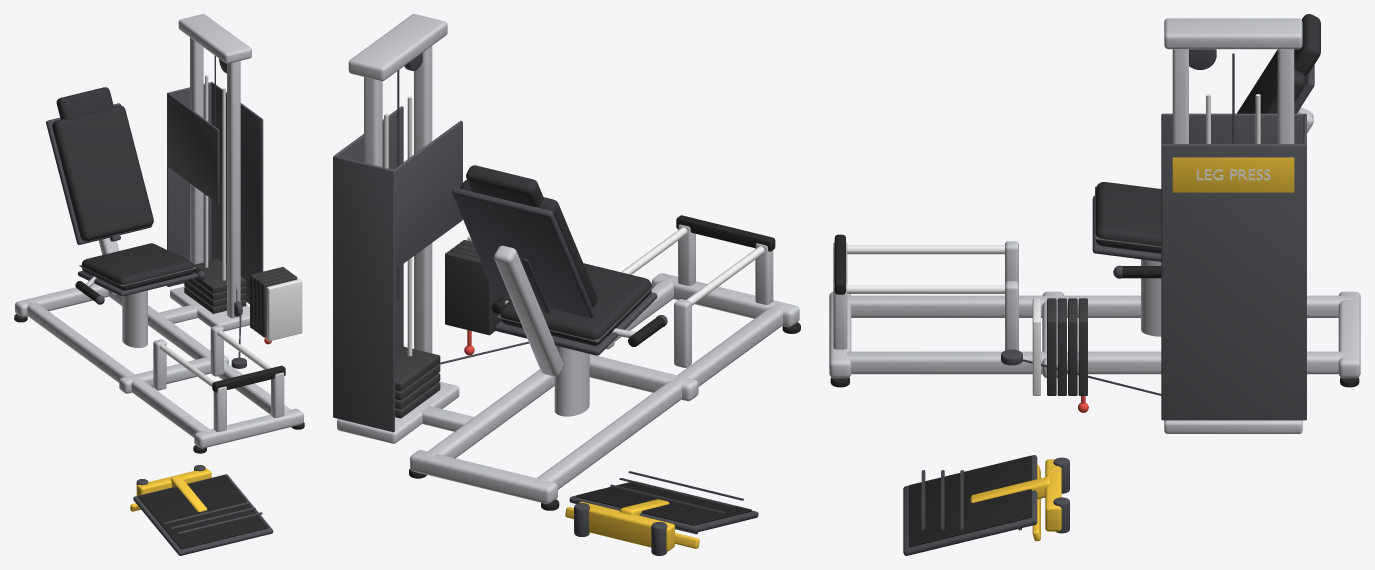
File: LegPress_Premium.fbx
3 renders of one model, left to right at view 1: azimuth 30°, elevation 25°; view 2: azimuth 150°, elevation 25°; view 3: azimuth 270°, elevation 25°, orthographic. The views are drawn at different scales.
Parts seen in each view (by area): view 1: Backrest, Shroud_Side_Out, FootPlate_Grip, Shroud_Side_In, Tower_Post_1, Base_Rail_L, Seat, Shroud_Back, Base_Rail_R, Tower_Post_2, Head_Plate, Tower_Top (+24 smaller); view 2: Shroud_Back, Backrest_Shell, Shroud_Side_In, Base_Rail_L, Seat, Base_Rail_R, Tower_Post_1, Tower_Top, Plate_1, Base_Cross_Back, Back_Post, FootPlate_Grip (+20 smaller); view 3: Shroud_Side_Out, Base_Rail_R, FootPlate_Grip, Base_Rail_L, Tower_Top, Seat, Placard, Shroud_Side_In, Tower_Base, Base_Cross_Back, FootPlate, Tower_Post_2 (+19 smaller).
Boxes of the visible parts, x1,y1,x2,y2 form: Backrest: [52, 105, 153, 241]; Shroud_Side_Out: [211, 82, 263, 304]; FootPlate_Grip: [138, 475, 268, 549]; Shroud_Side_In: [167, 93, 219, 203]; Tower_Post_1: [227, 61, 240, 318]; Base_Rail_L: [26, 299, 212, 437]; Seat: [82, 243, 194, 290]; Shroud_Back: [167, 82, 211, 286]; Base_Rail_R: [108, 290, 290, 414]; Tower_Post_2: [190, 37, 203, 264]; Head_Plate: [266, 279, 302, 341]; Tower_Top: [178, 14, 251, 63]; Shroud_Back: [333, 155, 394, 432]; Backrest_Shell: [452, 187, 594, 318]; Shroud_Side_In: [393, 120, 462, 269]; Base_Rail_L: [533, 303, 784, 489]; Seat: [500, 263, 651, 345]; Base_Rail_R: [424, 276, 675, 458]; Tower_Post_1: [414, 46, 432, 353]; Tower_Top: [348, 14, 447, 81]; Plate_1: [445, 251, 493, 335]; Base_Cross_Back: [410, 450, 557, 503]; Back_Post: [494, 245, 563, 376]; FootPlate_Grip: [576, 482, 751, 525]; Shroud_Side_Out: [1161, 144, 1304, 420]; Base_Rail_R: [837, 351, 1352, 374]; FootPlate_Grip: [909, 455, 1031, 546]; Base_Rail_L: [847, 295, 1352, 317]; Tower_Top: [1164, 18, 1302, 49]; Seat: [1095, 182, 1161, 253]; Placard: [1172, 157, 1294, 192]; Shroud_Side_In: [1161, 113, 1304, 144]; Tower_Base: [1164, 420, 1302, 433]; Base_Cross_Back: [1338, 291, 1360, 378]; FootPlate: [903, 455, 1037, 555]; Tower_Post_2: [1277, 49, 1294, 143].
Bounding box in the file's own units: 1.09 × 2.27 × 1.92.
